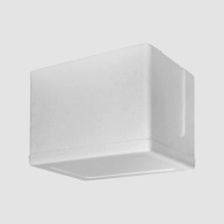foam_box: (21, 39, 200, 185)
